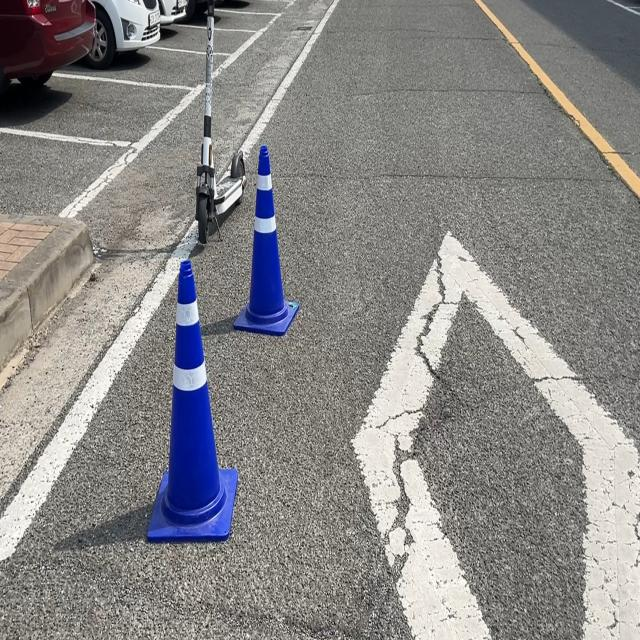b_rub: (147, 260, 238, 542), (233, 143, 299, 335)
